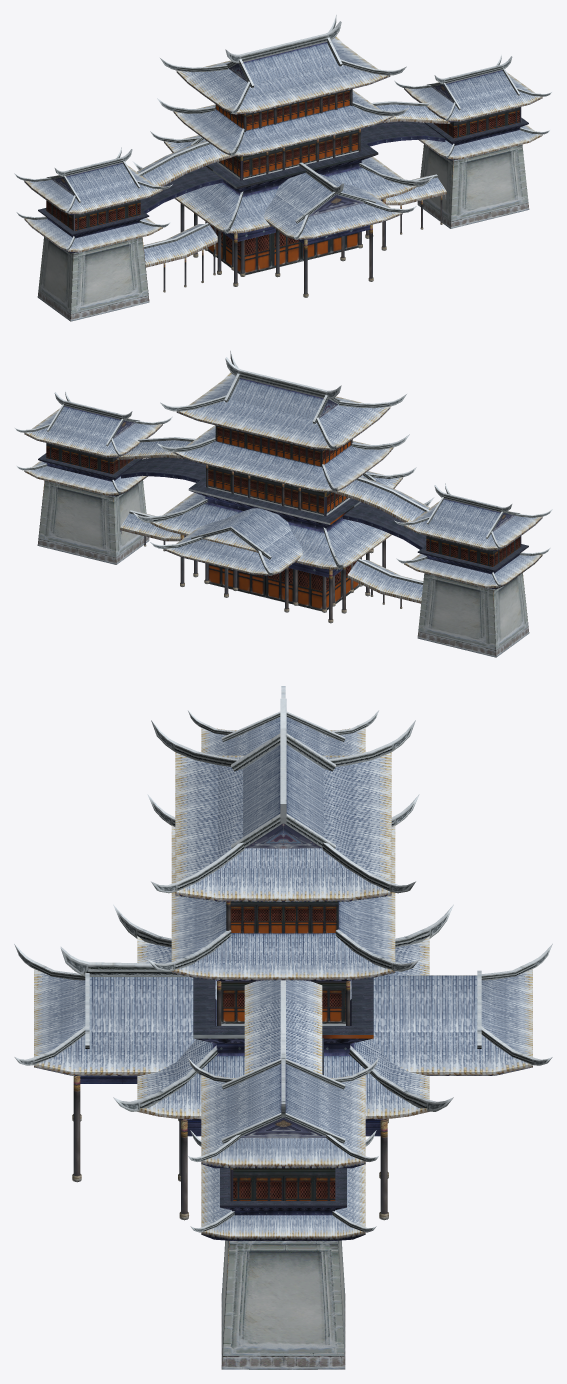
The model's file is jianshengong_01.FBX.
3 renders of one model, top to bottom at view 1: azimuth 30°, elevation 25°; view 2: azimuth 150°, elevation 25°; view 3: azimuth 270°, elevation 25°, orthographic. The views are drawn at different scales.
Parts seen in each view (by area): view 1: jianshengong_01; view 2: jianshengong_01; view 3: jianshengong_01.
Part boxes in pixels (bbox=[...]): jianshengong_01: bbox=[14, 15, 551, 321]; jianshengong_01: bbox=[15, 351, 552, 657]; jianshengong_01: bbox=[14, 686, 552, 1369].
Bounding box in the file's own units: 7655 × 3271 × 3909.
